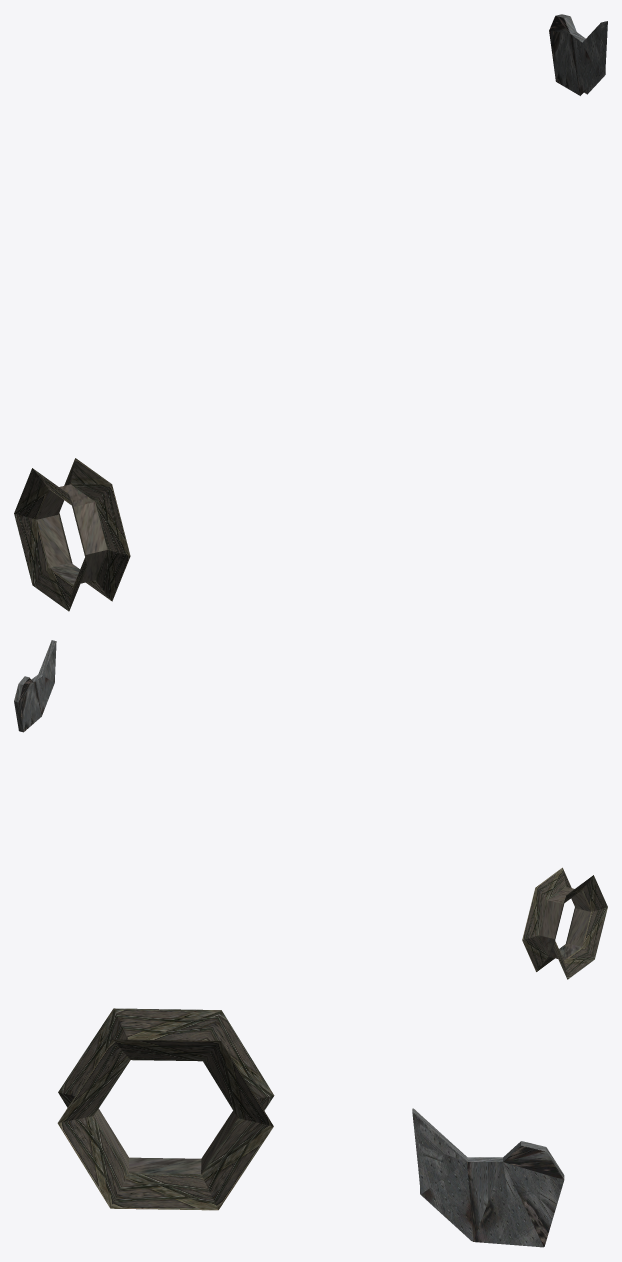
File: CO_BASE_ROCK_LARGE03.fbx
3 views of the same model, one above another, from view 1: azimuth 30°, elevation 25°; view 2: azimuth 150°, elevation 25°; view 3: azimuth 270°, elevation 25° (orthographic). The views are drawn at different scales.
Parts seen in each view (by area): view 1: CO_BASE_ROCK_LARGE02_ms3d_mo; view 2: CO_BASE_ROCK_LARGE02_ms3d_mo; view 3: CO_BASE_ROCK_LARGE02_ms3d_mo.
Boxes of the visible parts, bbox=[...] form: CO_BASE_ROCK_LARGE02_ms3d_mo: bbox=[14, 14, 607, 611]; CO_BASE_ROCK_LARGE02_ms3d_mo: bbox=[14, 640, 607, 979]; CO_BASE_ROCK_LARGE02_ms3d_mo: bbox=[57, 1008, 564, 1247].
Size of the model in its own units: 179728 by 95971 by 84299.
